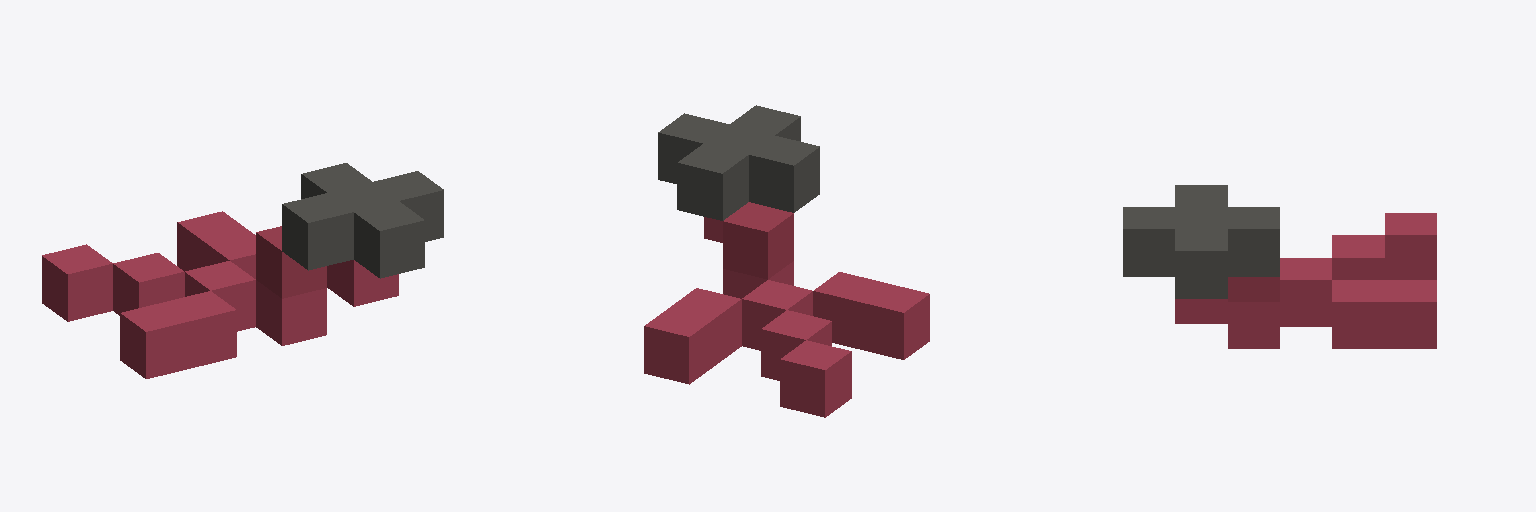
The picture shows the model from 3 angles: view 1: azimuth 30°, elevation 25°; view 2: azimuth 150°, elevation 25°; view 3: azimuth 270°, elevation 25°; orthographic projection.
Parts seen in each view (by area): view 1: object 1; view 2: object 1; view 3: object 1.
Boxes of the visible parts, box(x1,y1,x2,y2) form: object 1: box(42, 163, 443, 378); object 1: box(644, 105, 929, 417); object 1: box(1123, 185, 1436, 348).
Bounding box in the file's own units: 0.6 × 0.3 × 0.6.
Materials: 1 (1 with a texture image).